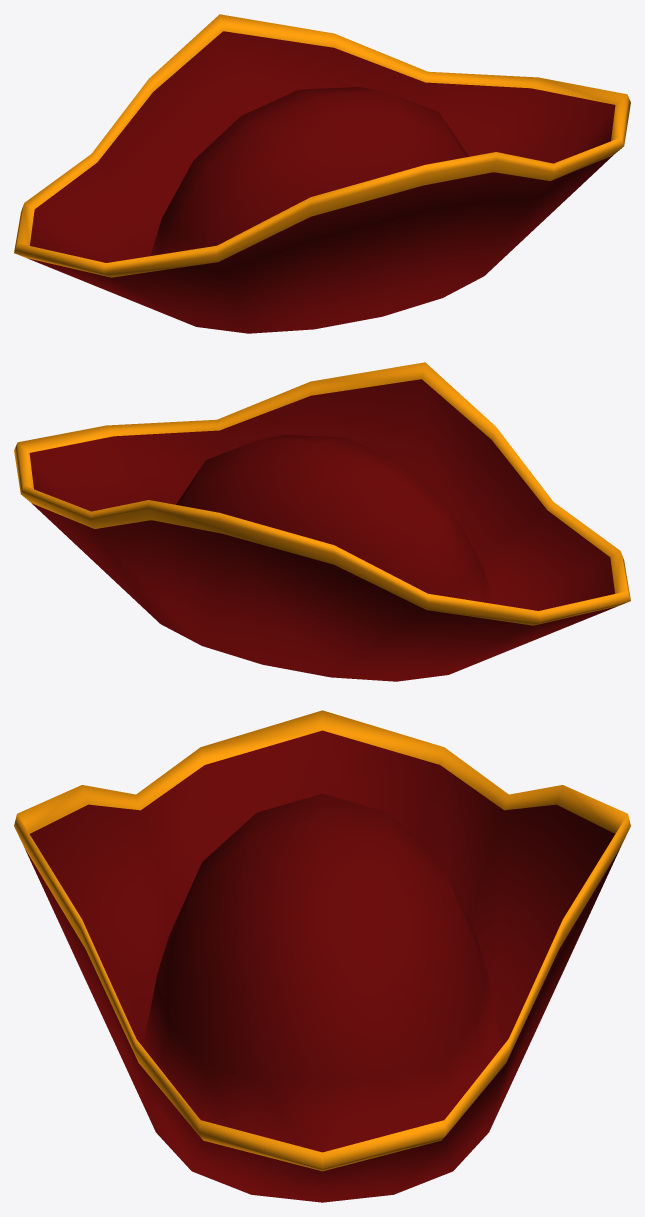
File: PirateHat_01.glb
The picture shows the model from 3 angles, top to bottom: view 1: azimuth 30°, elevation 25°; view 2: azimuth 150°, elevation 25°; view 3: azimuth 270°, elevation 25°; orthographic projection. The views are drawn at different scales.
Visible parts, largest first — view 1: PirateHat_01; view 2: PirateHat_01; view 3: PirateHat_01.
Part boxes in pixels (x1,y1,x2,y2): PirateHat_01: [14, 14, 630, 333]; PirateHat_01: [14, 362, 630, 681]; PirateHat_01: [14, 710, 630, 1202].
Size of what is drawn, in the model's own units: 0.7184 by 0.2038 by 0.4188.
Materials: 1 (1 with a texture image).
